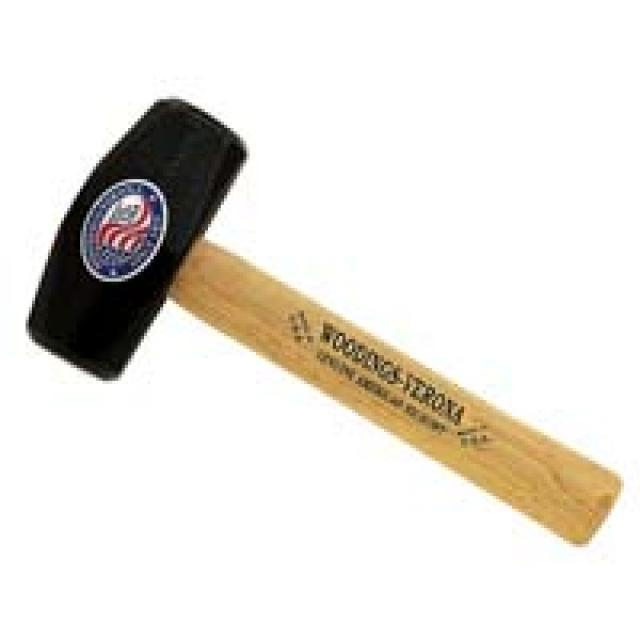hammer: (12, 82, 628, 562)
